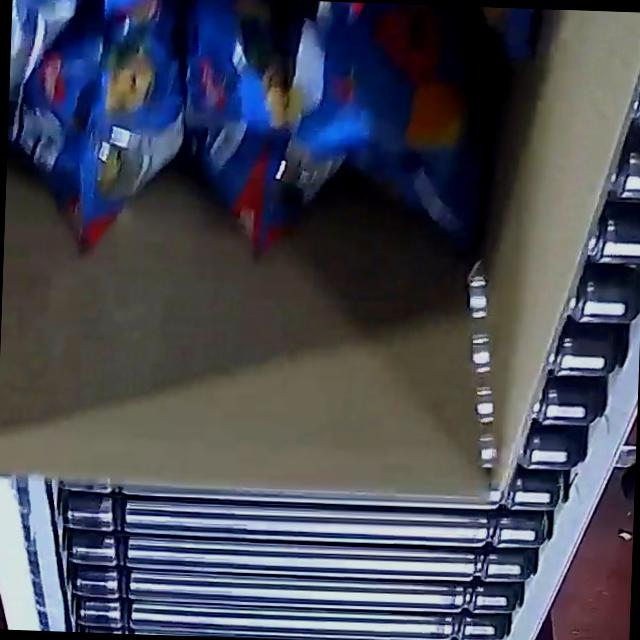paprika: (2, 0, 540, 276)
